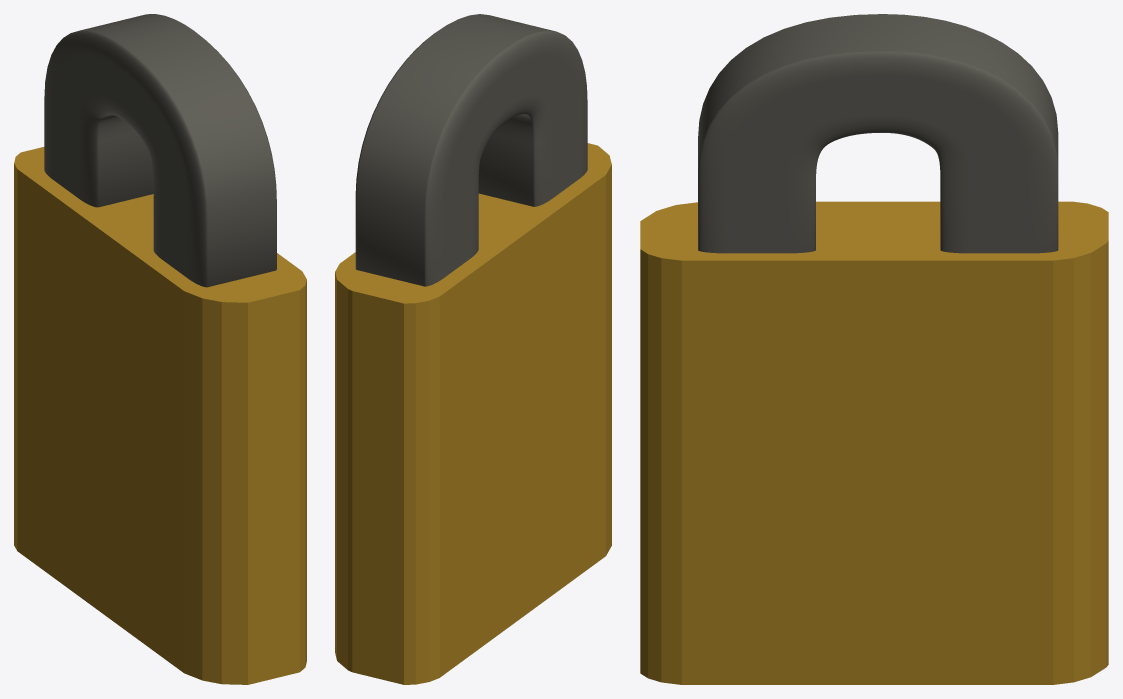
The model's file is lock-transformed.glb.
3 views of the same model, side by side, from view 1: azimuth 30°, elevation 25°; view 2: azimuth 150°, elevation 25°; view 3: azimuth 270°, elevation 25° (orthographic). The views are drawn at different scales.
Parts seen in each view (by area): view 1: Cube, Text; view 2: Cube, Text; view 3: Cube, Text.
Part boxes in pixels (x1,y1,x2,y2): Cube: (14,147,306,684); Text: (44,14,276,287); Cube: (335,143,611,684); Text: (355,14,587,286); Cube: (640,201,1108,684); Text: (698,14,1058,253).
Size of the model in its own units: 1.06 by 5.25 by 3.57.
